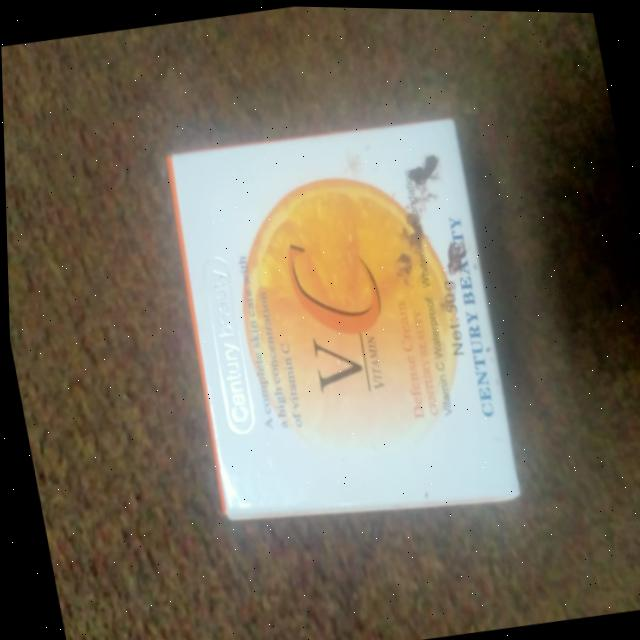powder: (123, 71, 572, 597)
